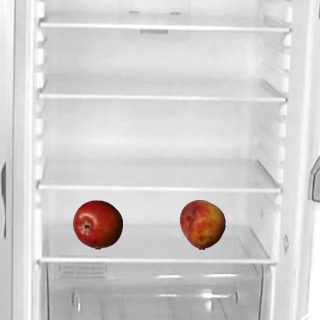Apple Braeburn: (72, 199, 122, 249)
Peach: (177, 199, 227, 249)
